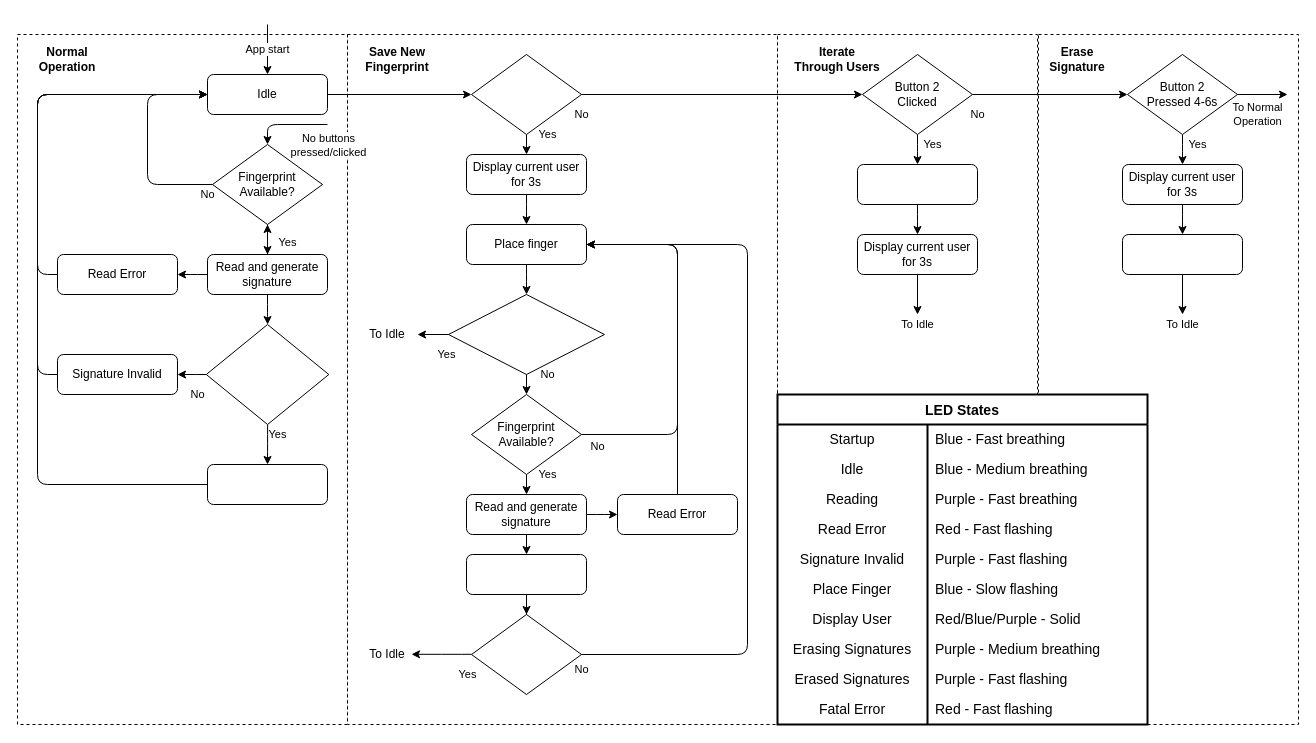
This 1316x743 diagram has some shape labels left out. Each missing label, with the centre of its shape:
"Button 1 Pressed 2-4s" belongs at (x=526, y=94).
"Display detected user for 3s" belongs at (x=267, y=484).
"Erase current user's signatures" belongs at (x=1182, y=254).
"Has 6-8s elapsed since fingerprint detected?" belongs at (x=526, y=334).
"Increment current user" belongs at (x=917, y=184).
"N signatures read?" belongs at (x=526, y=654).
"Save current user's signatures" belongs at (x=526, y=574).
"Signature found in database?" belongs at (x=267, y=374).
